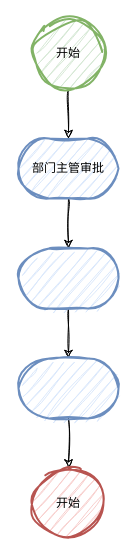
This 136x556 diagram has some shape labels left out. Each missing label, with the centre of its shape:
总经理审批: (68,388)
部门经理审批: (68,278)
